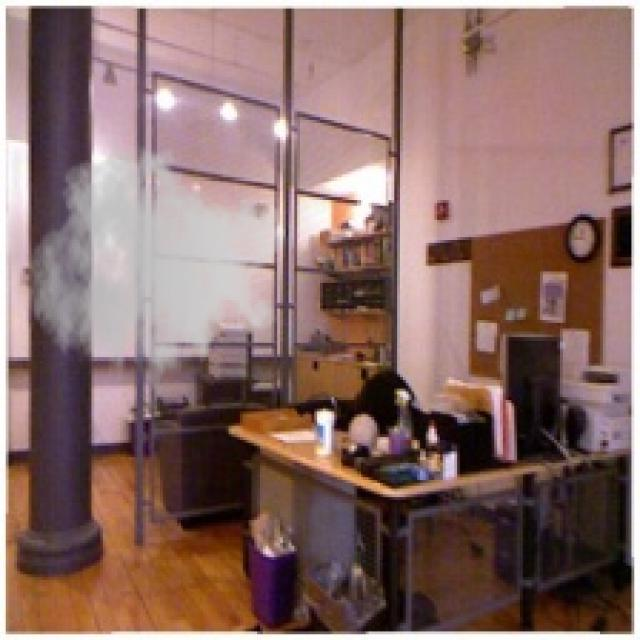smoke: (26, 137, 286, 406)
